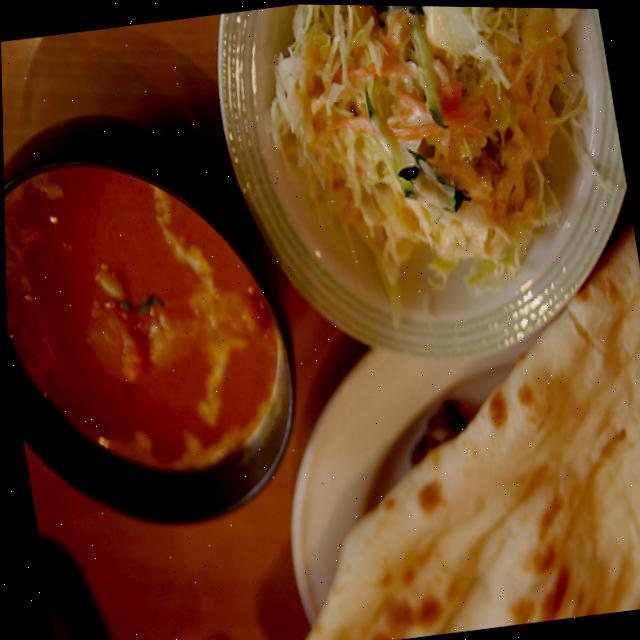蔬菜料理: (188, 2, 633, 281)
